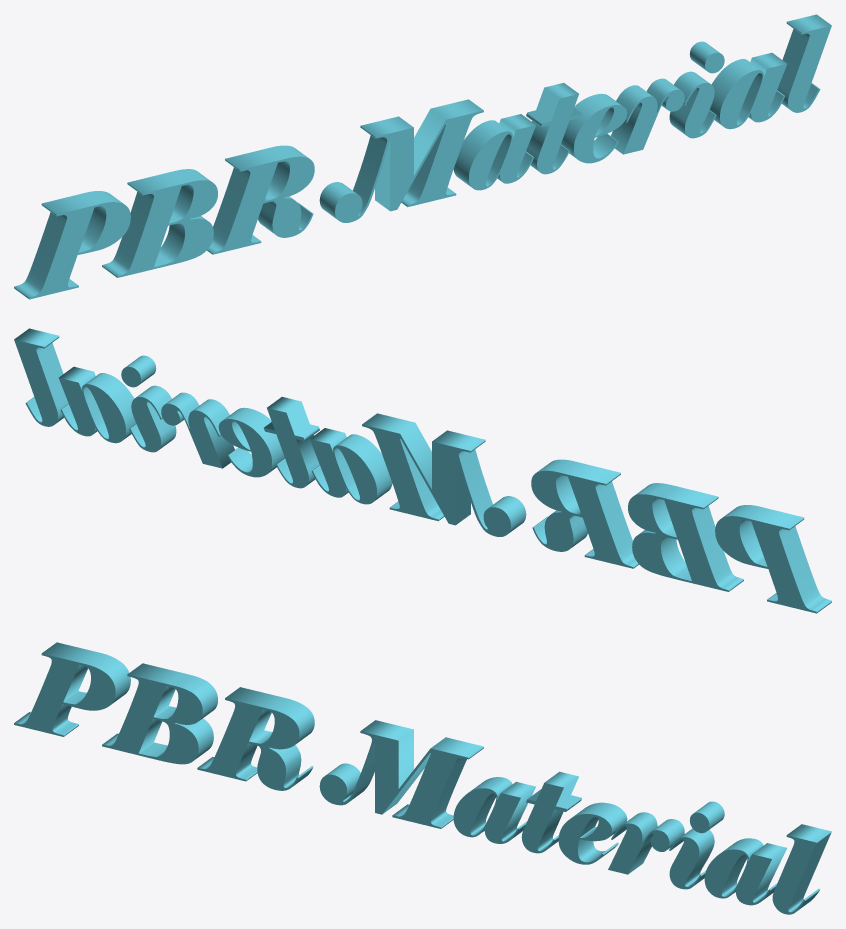
File: pbrm1.glb
The picture shows the model from 3 angles, top to bottom: view 1: azimuth 30°, elevation 25°; view 2: azimuth 150°, elevation 25°; view 3: azimuth 330°, elevation 25°; orthographic projection.
Visible parts, largest first — view 1: Text; view 2: Text; view 3: Text.
Part boxes in pixels (x1,y1,x2,y2): Text: [14, 14, 831, 299]; Text: [14, 328, 831, 613]; Text: [14, 642, 831, 914].
Bounding box in the file's own units: 6.08 × 0.5826 × 0.2.
